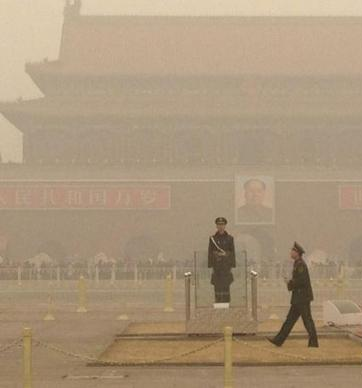person: (263, 239, 320, 347), (206, 215, 235, 305)
